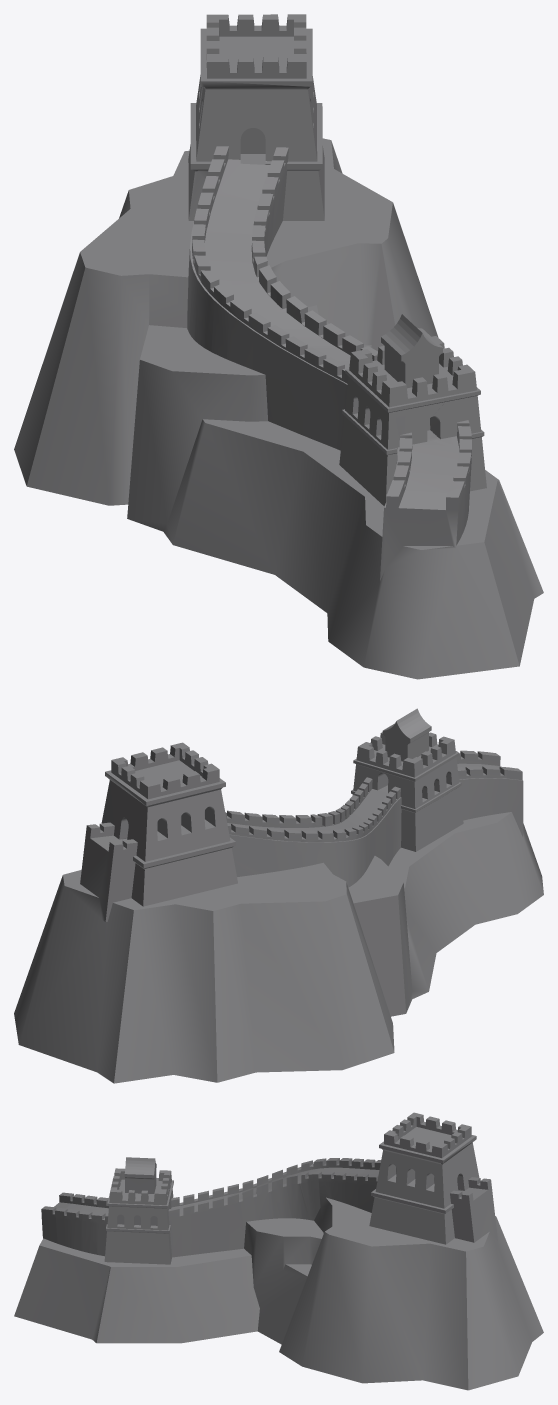
File: great-wall.glb
The picture shows the model from 3 angles, top to bottom: view 1: azimuth 30°, elevation 25°; view 2: azimuth 150°, elevation 25°; view 3: azimuth 270°, elevation 25°; orthographic projection. The views are drawn at different scales.
Parts seen in each view (by area): view 1: Object_4; view 2: Object_4; view 3: Object_4.
Part boxes in pixels (box(x1,y1,x2,y2)): Object_4: box(14, 14, 543, 679); Object_4: box(14, 708, 543, 1083); Object_4: box(14, 1112, 543, 1390).
Bounding box in the file's own units: 63.34 × 48.51 × 111.
Materials: 1 (1 with a texture image).
